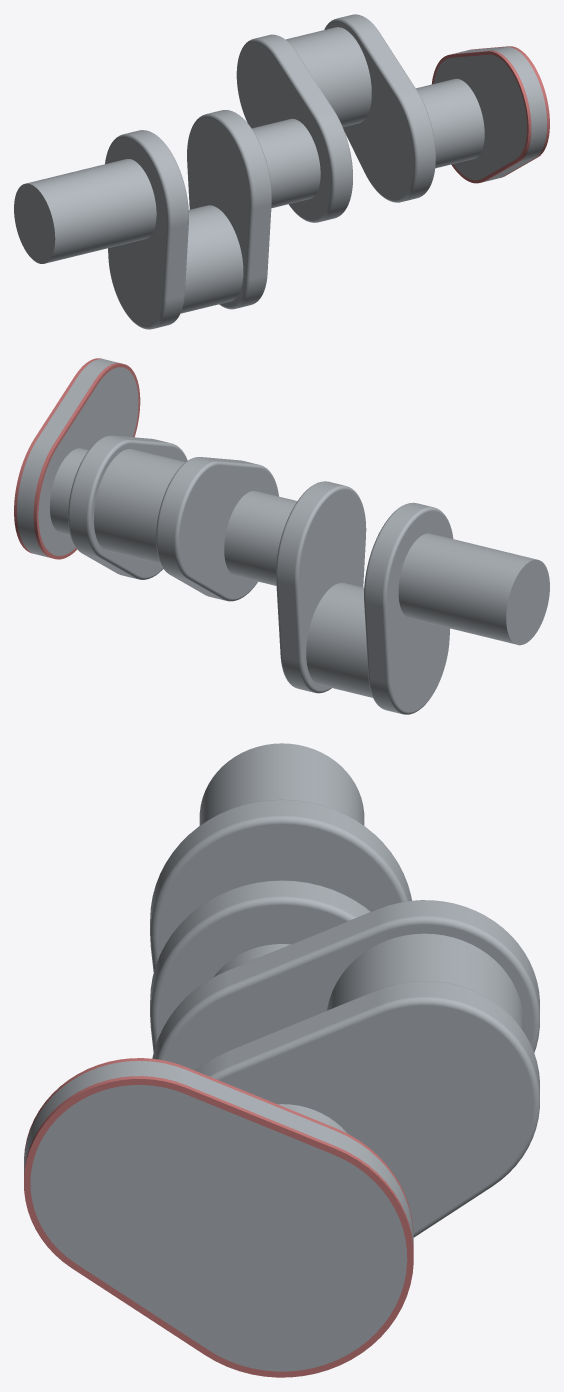
File: step_13.glb
3 views of the same model, one above another, from view 1: azimuth 30°, elevation 25°; view 2: azimuth 150°, elevation 25°; view 3: azimuth 270°, elevation 25° (orthographic). The views are drawn at different scales.
Visible parts, largest first — view 1: part__crankshaft, removed__crankshaft; view 2: part__crankshaft, removed__crankshaft; view 3: part__crankshaft, removed__crankshaft.
Part boxes in pixels (x1,y1,x2,y2): part__crankshaft: (14, 14, 546, 329); removed__crankshaft: (432, 46, 549, 183); part__crankshaft: (17, 359, 549, 714); removed__crankshaft: (14, 358, 140, 559); part__crankshaft: (24, 743, 539, 1371); removed__crankshaft: (24, 1058, 413, 1377).
Bounding box in the file's own units: 401 × 184 × 199.
